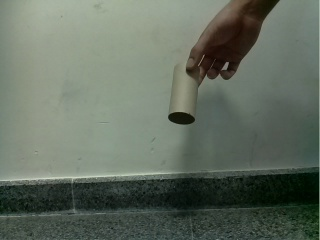rollo papel: (168, 61, 200, 126)
